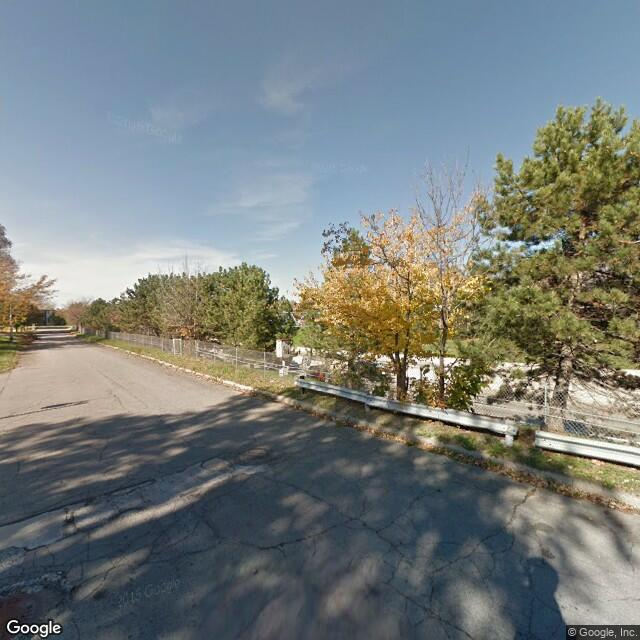litter: (604, 499, 619, 513)
